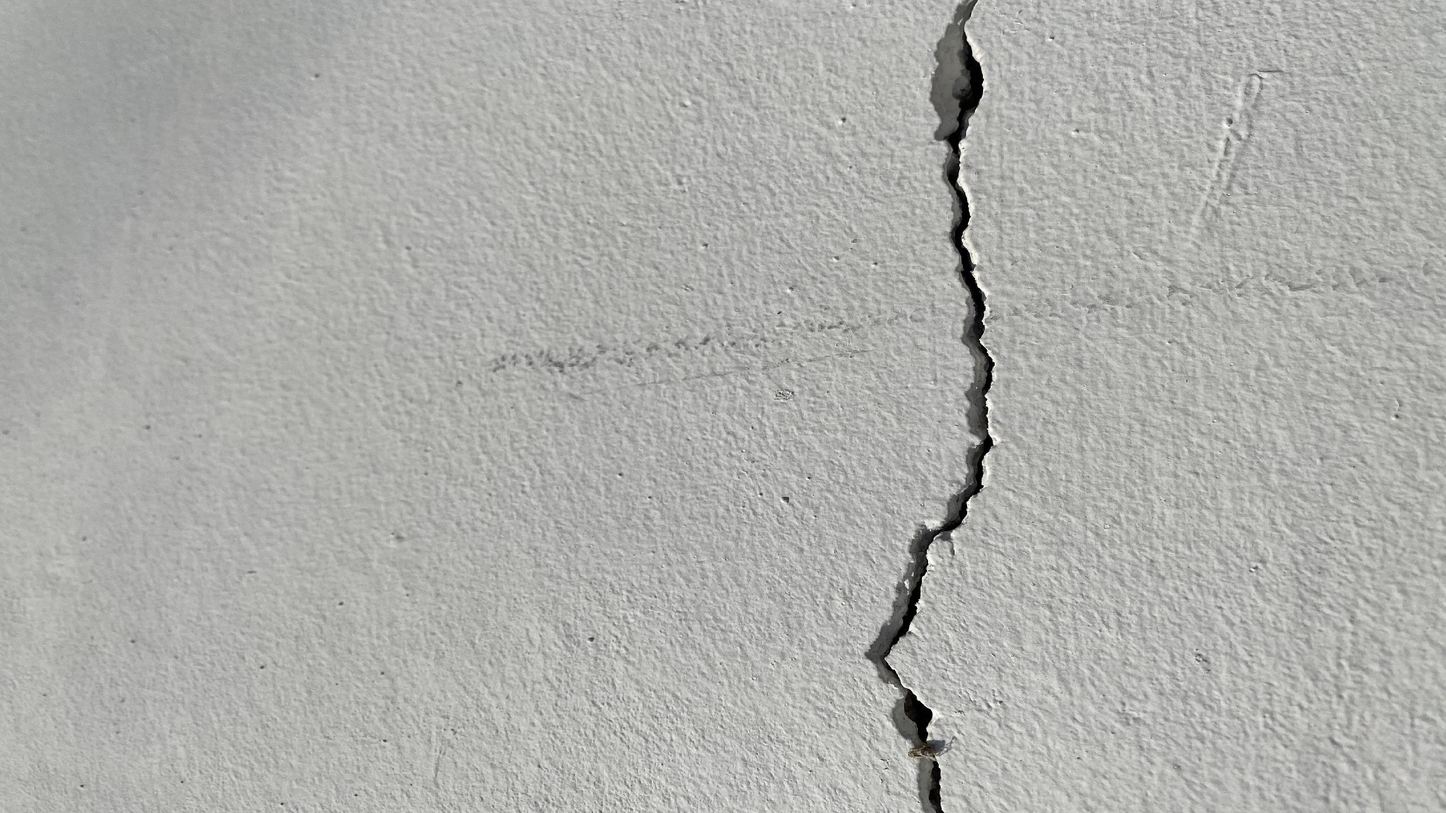crack: (881, 4, 995, 812)
